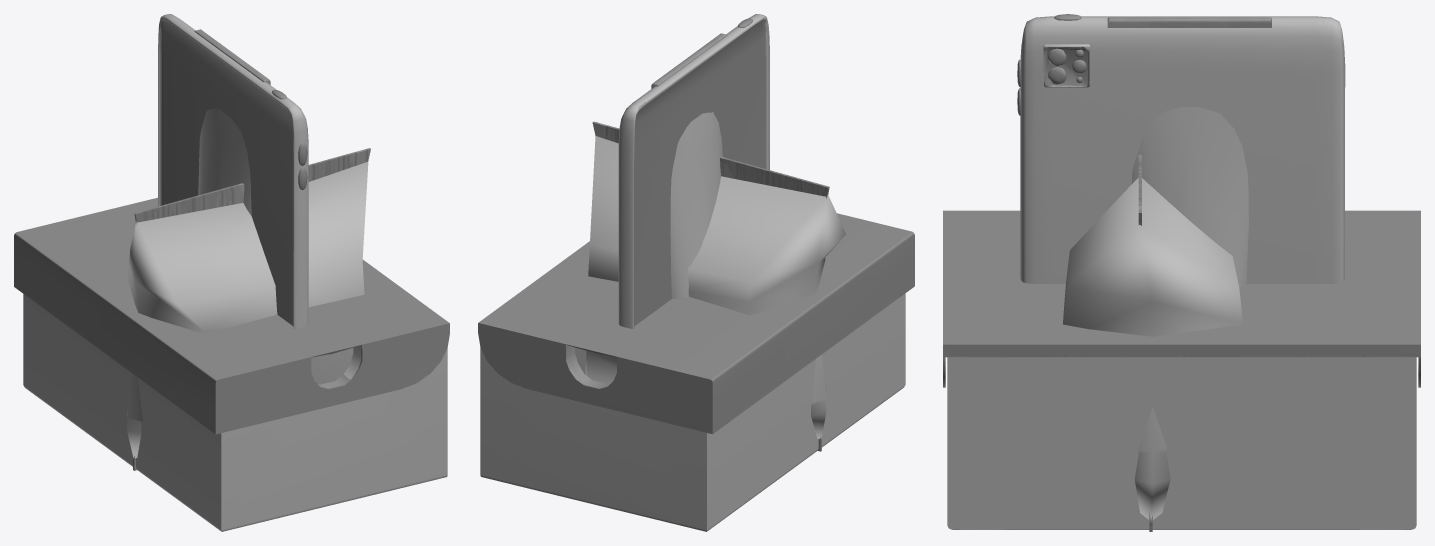
Rendered from toiletRoll.glb.
3 renders of one model, left to right at view 1: azimuth 30°, elevation 25°; view 2: azimuth 150°, elevation 25°; view 3: azimuth 270°, elevation 25°, orthographic. The views are drawn at different scales.
Parts seen in each view (by area): view 1: shoeBox, chipBag, iPad, lotionTube; view 2: shoeBox, chipBag, iPad, lotionTube; view 3: shoeBox, iPad, chipBag, lotionTube.
Boxes of the visible parts, x1,y1,x2,y2 form: shoeBox: (14,197,449,531); chipBag: (127,148,370,470); iPad: (158,14,308,328); lotionTube: (194,29,270,215); shoeBox: (478,213,914,531); chipBag: (585,121,846,451); iPad: (618,14,769,328); lotionTube: (651,33,727,298); shoeBox: (943,210,1420,529); iPad: (1017,14,1345,283); chipBag: (1063,154,1242,531); lotionTube: (1107,17,1271,287).
Bounding box in the file's own units: 2.03 × 3.02 × 2.93.
5 materials, 5 textured.
